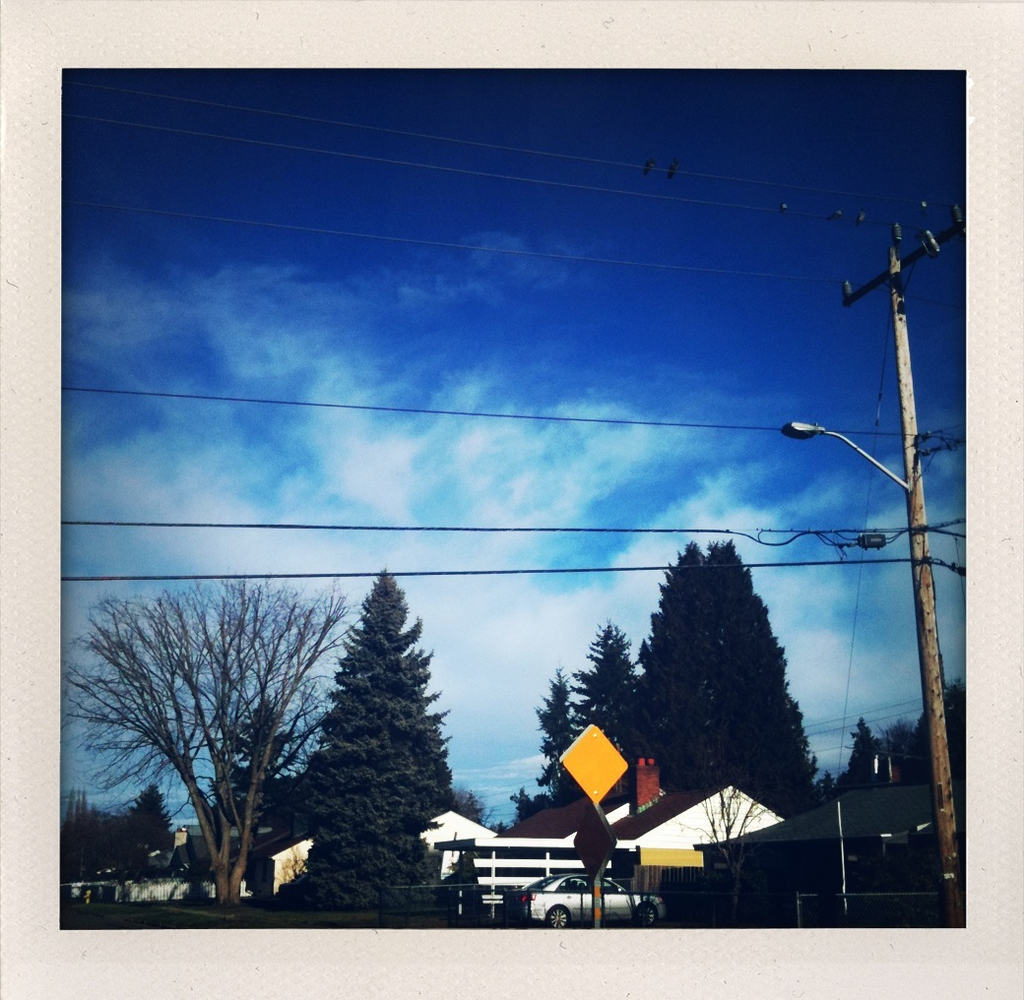Car: (513, 872, 661, 930)
